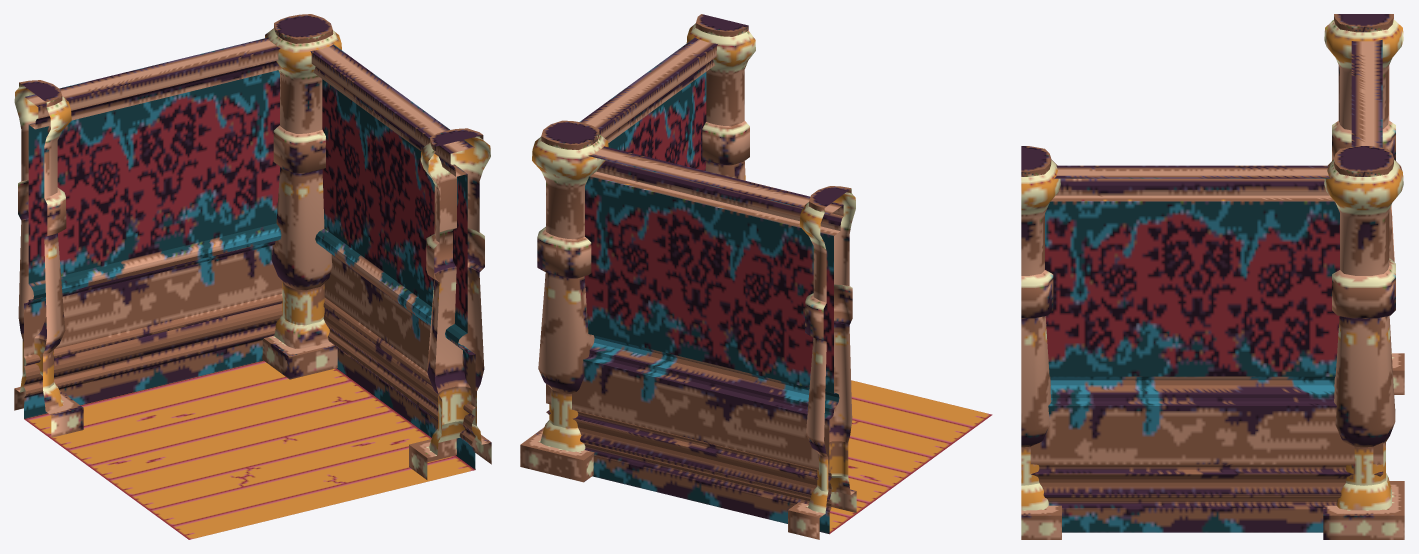
The model's file is tile_corner_v3.fbx.
3 renders of one model, left to right at view 1: azimuth 30°, elevation 25°; view 2: azimuth 150°, elevation 25°; view 3: azimuth 270°, elevation 25°, orthographic. The views are drawn at different scales.
Parts seen in each view (by area): view 1: tile_corner_v3.001; view 2: tile_corner_v3.001; view 3: tile_corner_v3.001.
Part boxes in pixels (x1,y1,x2,y2): tile_corner_v3.001: (14, 14, 491, 539); tile_corner_v3.001: (520, 14, 992, 539); tile_corner_v3.001: (1021, 14, 1404, 539).
Bounding box in the file's own units: 190 × 200 × 190.
